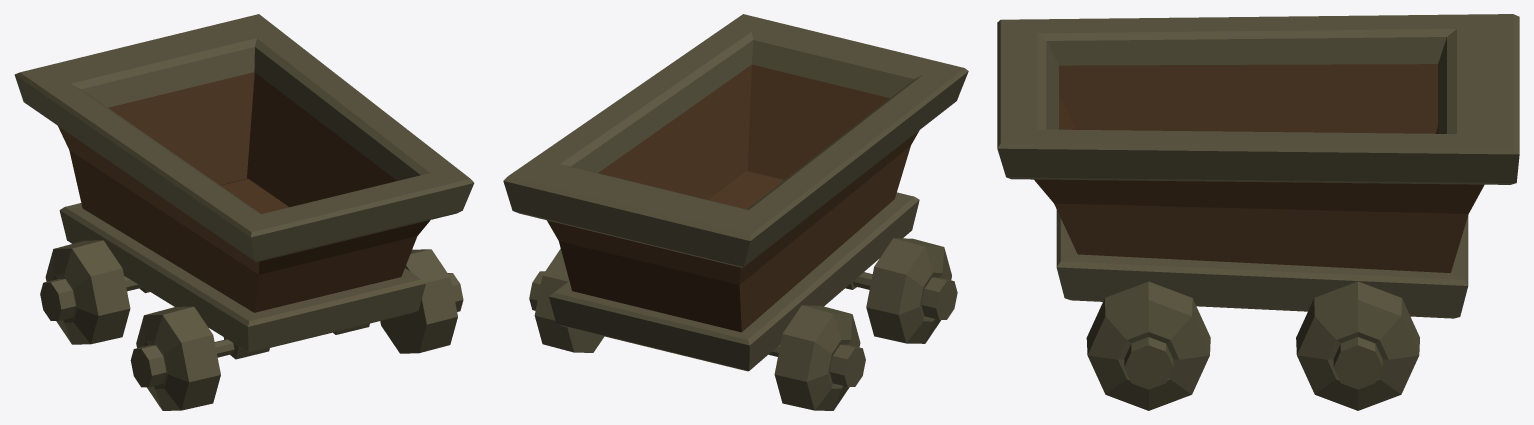
The model's file is MESH_Minecart.fbx.
3 views of the same model, side by side, from view 1: azimuth 30°, elevation 25°; view 2: azimuth 150°, elevation 25°; view 3: azimuth 270°, elevation 25° (orthographic). The views are drawn at different scales.
Parts seen in each view (by area): view 1: MinecartMesh, WheelsBack, WheelsFront; view 2: MinecartMesh, WheelsFront, WheelsBack; view 3: MinecartMesh, WheelsBack, WheelsFront.
Part boxes in pixels (bbox=[...]): MinecartMesh: bbox=[14, 14, 474, 352]; WheelsBack: bbox=[130, 249, 463, 410]; WheelsFront: bbox=[40, 240, 149, 344]; MinecartMesh: bbox=[503, 14, 968, 371]; WheelsFront: bbox=[529, 248, 865, 410]; WheelsBack: bbox=[845, 238, 957, 343]; MinecartMesh: bbox=[997, 14, 1519, 318]; WheelsBack: bbox=[1086, 281, 1210, 410]; WheelsFront: bbox=[1296, 281, 1419, 410].
Size of the model in its own units: 1.62 by 1.09 by 2.04.
